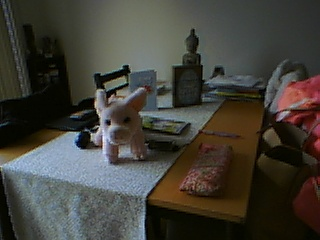piggy: (90, 86, 150, 165)
